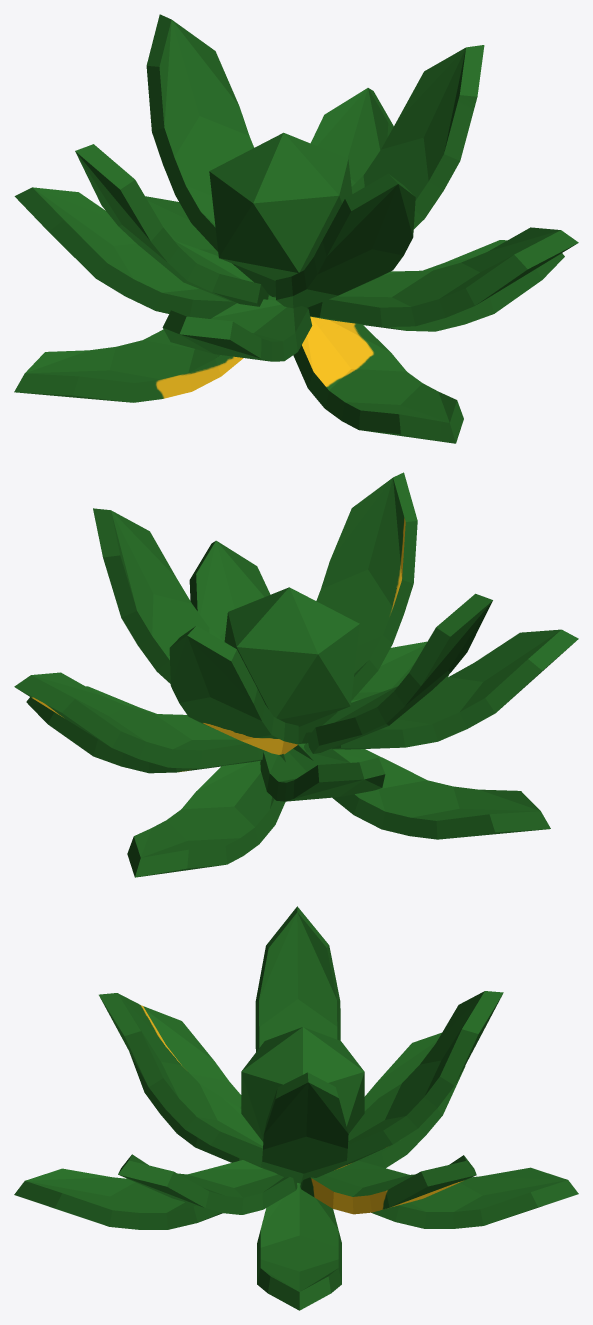
File: succulent.obj
3 renders of one model, top to bottom at view 1: azimuth 30°, elevation 25°; view 2: azimuth 150°, elevation 25°; view 3: azimuth 270°, elevation 25°, orthographic. The views are drawn at different scales.
Parts seen in each view (by area): view 1: Blatt.046_Plane.046; view 2: Blatt.046_Plane.046; view 3: Blatt.046_Plane.046.
Part boxes in pixels (x1=…): Blatt.046_Plane.046: x1=14, y1=14, x2=578, y2=443; Blatt.046_Plane.046: x1=14, y1=472, x2=578, y2=877; Blatt.046_Plane.046: x1=14, y1=906, x2=578, y2=1310.
Bounding box in the file's own units: 0.7628 × 0.3278 × 0.7787.
